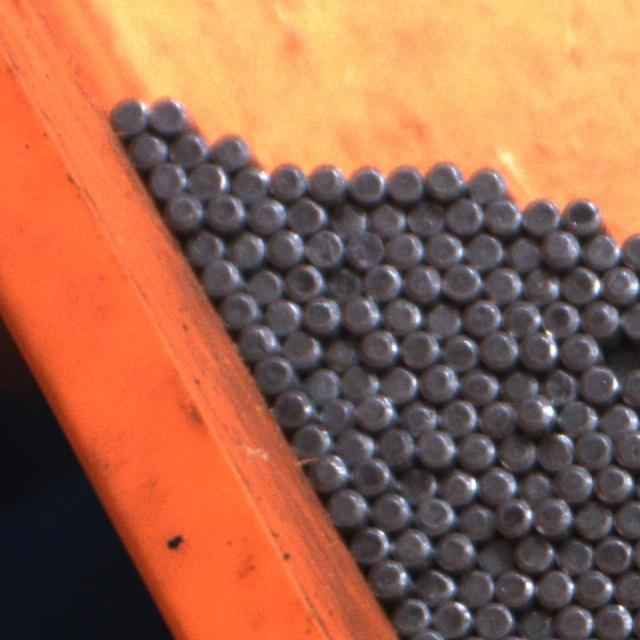tool: (370, 487, 412, 529), (367, 555, 409, 596), (392, 525, 433, 566), (518, 327, 559, 368), (559, 330, 600, 370), (562, 193, 602, 234), (304, 225, 344, 266), (348, 522, 388, 563), (326, 486, 367, 526), (580, 228, 620, 268), (540, 228, 580, 268), (434, 530, 474, 570), (415, 426, 455, 466), (390, 594, 430, 634), (534, 567, 574, 607), (363, 259, 403, 299), (281, 328, 321, 368), (345, 228, 385, 268), (578, 362, 618, 402), (442, 260, 482, 300), (402, 261, 442, 301), (399, 326, 438, 366), (574, 498, 613, 538), (497, 432, 536, 472), (474, 598, 513, 638), (415, 494, 455, 533), (479, 328, 518, 368), (359, 326, 398, 366), (593, 532, 632, 572), (456, 429, 495, 469), (593, 600, 632, 640), (265, 227, 304, 267), (286, 193, 326, 232), (533, 496, 573, 535), (414, 566, 454, 605), (376, 424, 415, 464), (593, 462, 633, 501), (557, 396, 596, 436), (514, 532, 553, 572), (204, 192, 243, 232), (419, 361, 459, 400), (440, 330, 479, 370), (309, 451, 348, 491), (291, 420, 330, 460), (354, 454, 394, 493), (189, 158, 229, 197), (284, 261, 322, 302), (165, 191, 204, 230), (601, 263, 640, 302), (438, 396, 477, 435), (405, 197, 444, 236), (456, 500, 495, 539), (494, 567, 533, 606), (382, 295, 421, 334), (483, 195, 522, 234), (378, 363, 417, 402), (356, 389, 395, 428), (255, 353, 294, 392), (521, 194, 559, 234), (341, 293, 381, 331), (244, 265, 284, 303), (515, 393, 555, 431), (536, 430, 574, 470), (266, 159, 306, 197), (432, 598, 472, 636), (201, 256, 241, 294), (398, 463, 438, 501), (574, 428, 612, 467), (445, 194, 483, 233), (465, 230, 503, 269), (574, 566, 612, 605), (462, 296, 501, 334), (554, 535, 593, 573), (554, 601, 592, 640), (437, 467, 476, 505), (348, 164, 386, 203), (539, 367, 577, 406), (386, 227, 424, 266), (599, 402, 638, 440), (554, 462, 592, 501), (425, 160, 464, 198), (581, 298, 619, 337), (561, 264, 599, 303), (386, 163, 424, 202), (467, 168, 506, 206), (540, 296, 579, 334), (334, 424, 373, 462), (271, 388, 310, 426), (329, 199, 368, 237), (302, 294, 339, 334), (425, 228, 463, 266), (247, 194, 285, 232), (495, 497, 533, 535), (263, 295, 301, 333), (321, 332, 359, 370), (483, 265, 521, 303), (522, 265, 560, 303), (478, 466, 516, 504), (460, 366, 498, 404), (146, 159, 184, 197), (308, 162, 346, 200), (221, 290, 259, 328), (325, 263, 363, 301), (502, 297, 540, 335), (236, 320, 274, 358), (109, 96, 147, 134), (478, 398, 515, 437), (185, 228, 224, 265), (423, 300, 461, 337), (504, 234, 542, 271), (500, 368, 538, 405), (368, 198, 405, 236), (227, 230, 264, 268), (339, 363, 377, 400), (302, 366, 339, 404), (229, 165, 267, 202), (169, 130, 207, 167), (602, 333, 640, 370), (398, 398, 437, 434), (313, 392, 352, 428), (517, 467, 554, 504), (456, 566, 492, 604), (476, 538, 514, 574), (148, 96, 184, 134), (129, 130, 165, 168), (212, 132, 250, 168), (515, 605, 553, 640), (613, 426, 640, 466), (613, 498, 640, 536), (614, 568, 640, 606), (619, 367, 640, 406), (620, 230, 640, 270), (620, 298, 640, 338)
